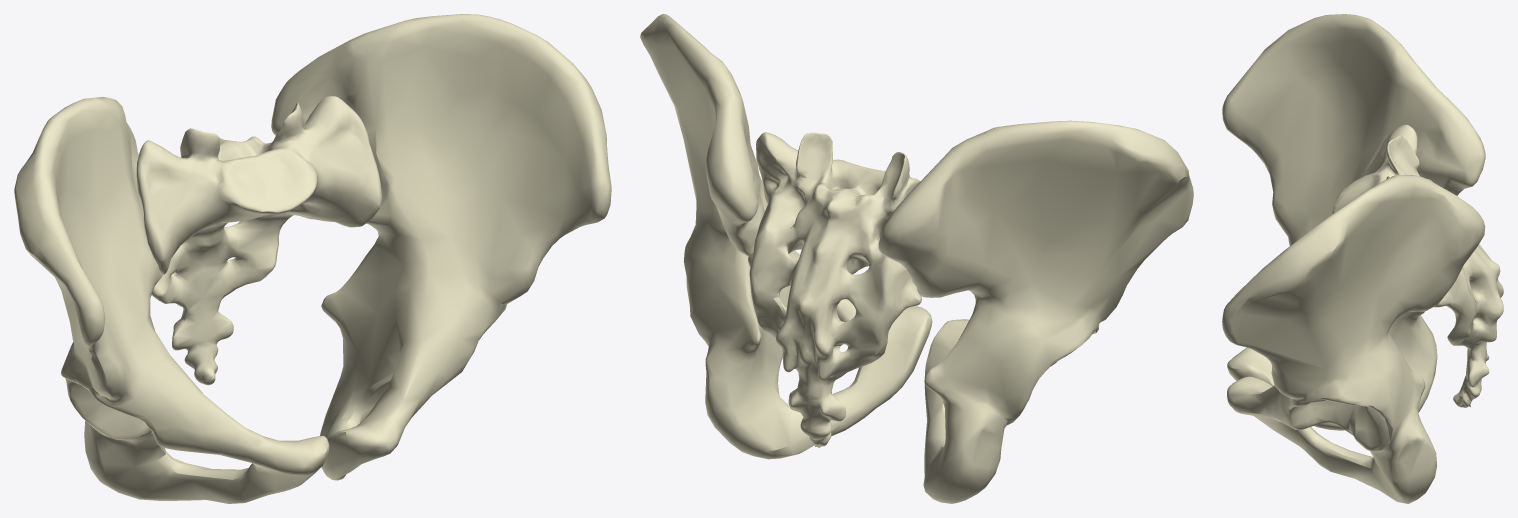
Rendered from pelvis.fbx.
The picture shows the model from 3 angles, left to right: view 1: azimuth 30°, elevation 25°; view 2: azimuth 150°, elevation 25°; view 3: azimuth 270°, elevation 25°; orthographic projection. The views are drawn at different scales.
Parts seen in each view (by area): view 1: Left hip bone, Right hip bone, Sacrum; view 2: Right hip bone, Left hip bone, Sacrum; view 3: Left hip bone, Right hip bone, Sacrum.
Part boxes in pixels (box(x1,y1,x2,y2)): Left hip bone: box(271, 14, 611, 480); Right hip bone: box(14, 97, 329, 503); Sacrum: box(136, 96, 381, 385); Right hip bone: box(878, 120, 1193, 503); Left hip bone: box(640, 14, 932, 459); Sacrum: box(748, 132, 921, 447); Left hip bone: box(1222, 174, 1485, 503); Right hip bone: box(1222, 14, 1485, 430); Sacrum: box(1332, 124, 1503, 407).
Bounding box in the file's own units: 2896 × 2060 × 1472.
